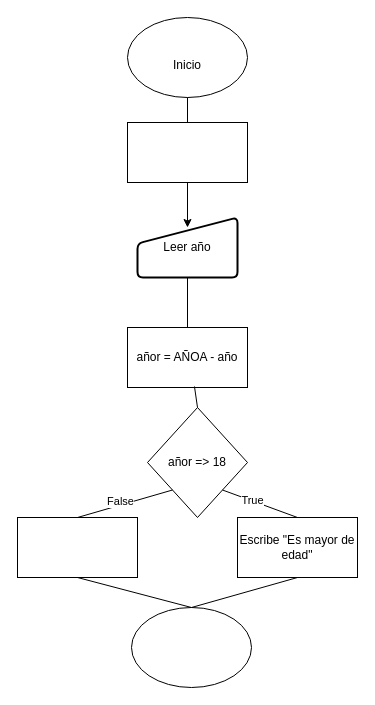
Image size: 375x705. Some labels were removed from this diagram. The shapes that lost their labels are listed below. From the top down, each one's box as (x1, y1, x2, y2) in pixels, then its label:
(126, 122, 248, 182): Entero añoa Entero añon Entero añor
(16, 516, 138, 578): Escribe "Es menor de edad"
(130, 606, 252, 688): Fin
